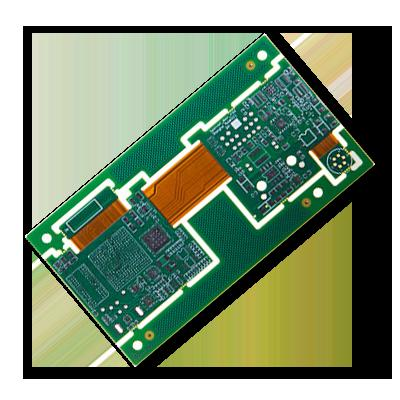Printed Circuit Board PCB: (26, 35, 374, 366)
